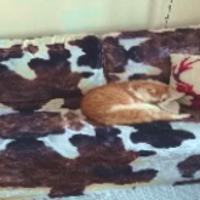asleep: (80, 79, 192, 127)
